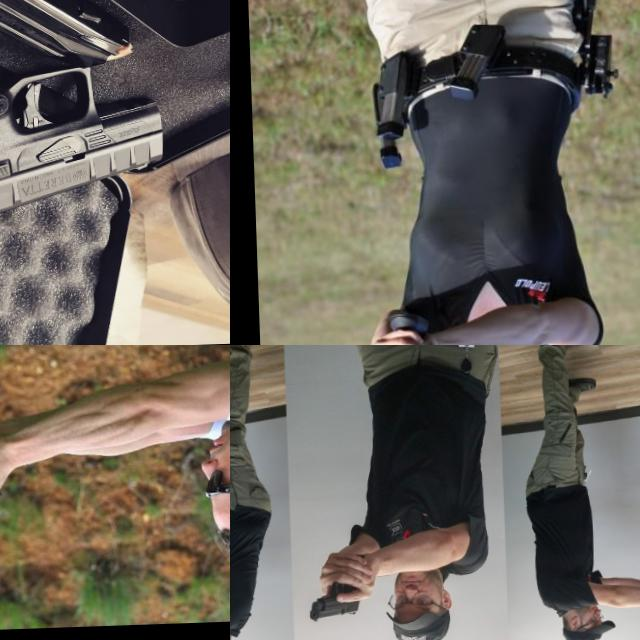handgun: (0, 0, 176, 258), (0, 472, 58, 530), (304, 578, 362, 624), (230, 611, 247, 630)
